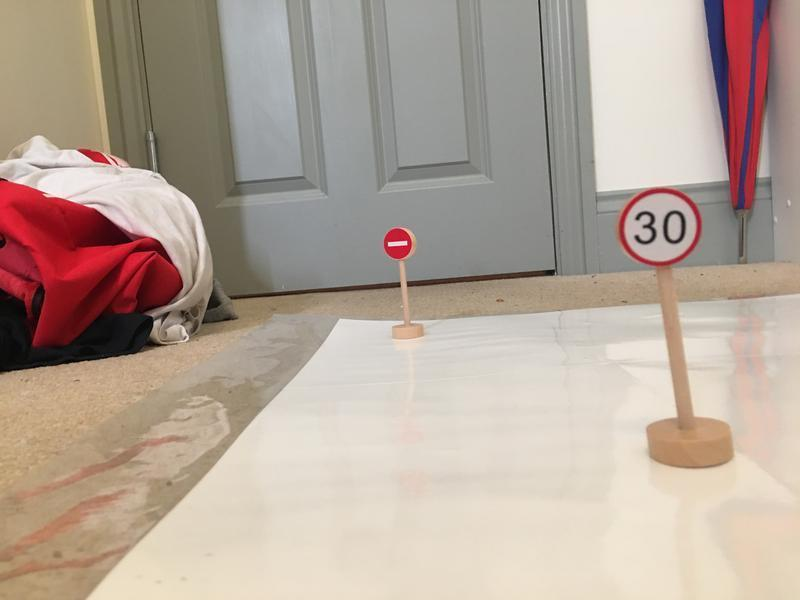Traffic_Sign_30: (617, 189, 701, 266)
Traffic_Sign_No_Entry: (383, 228, 413, 259)
